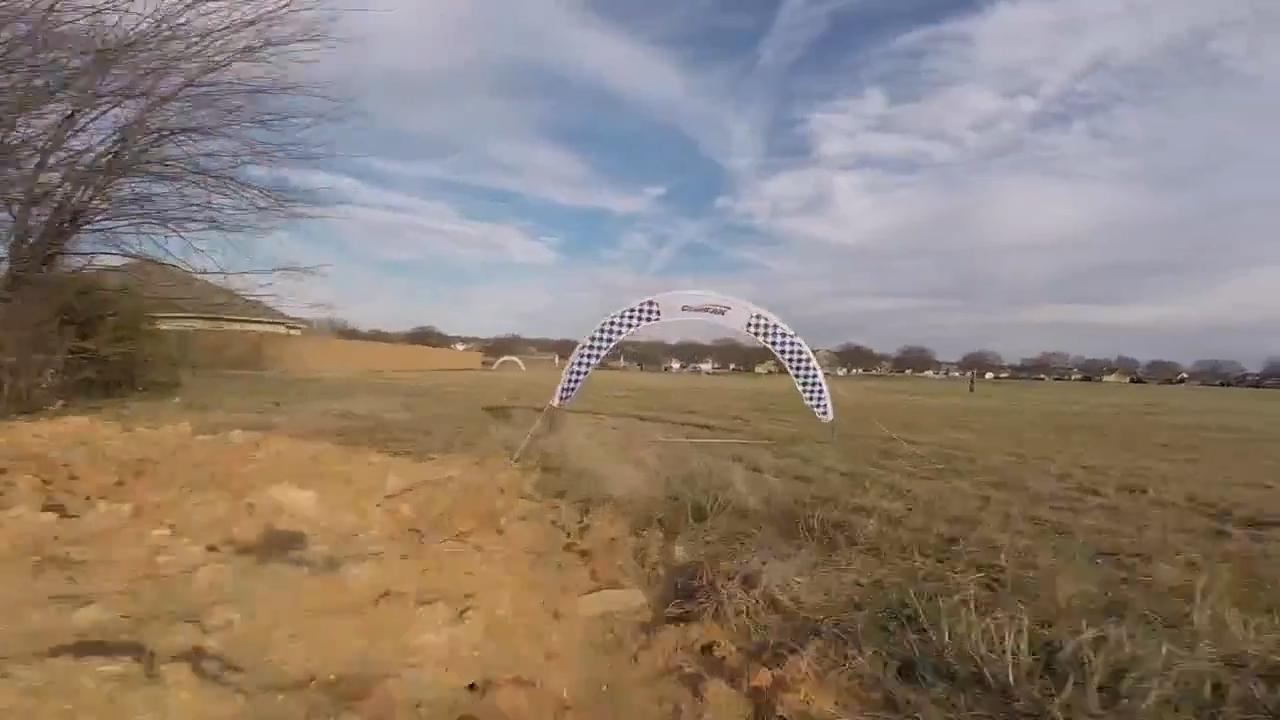gate: (551, 292, 841, 429)
